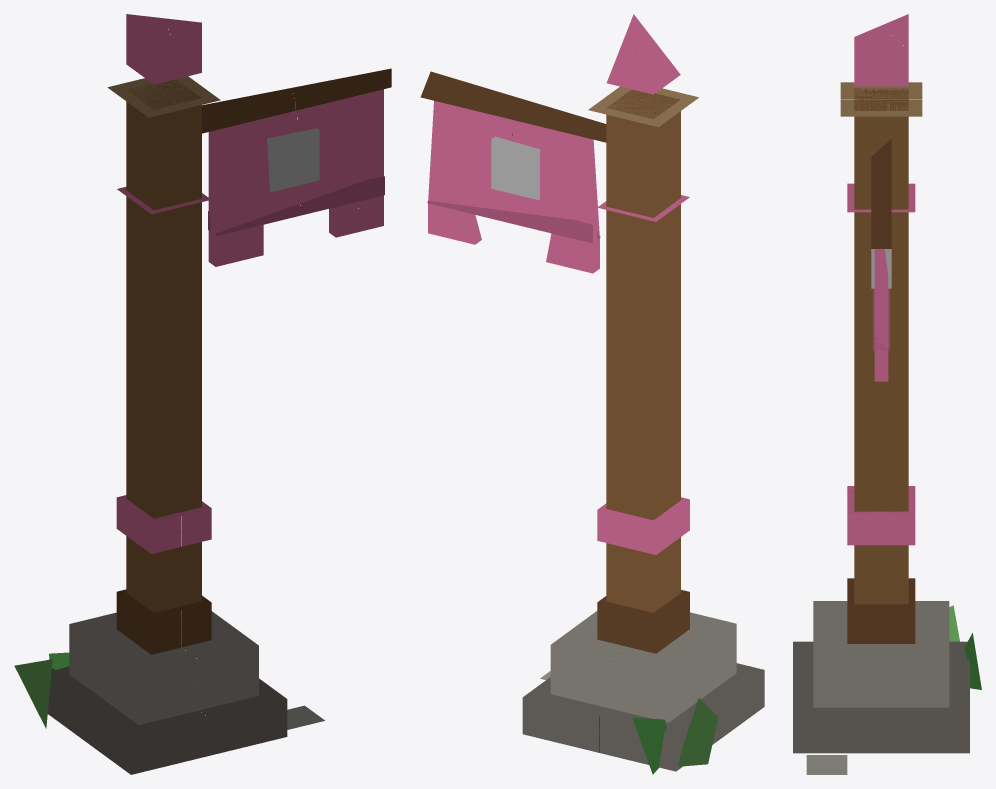
The model's file is territory-marker-opossum_lod1.glb.
3 renders of one model, left to right at view 1: azimuth 30°, elevation 25°; view 2: azimuth 150°, elevation 25°; view 3: azimuth 270°, elevation 25°, orthographic. The views are drawn at different scales.
Visible parts, largest first — view 1: marker-post, banner; view 2: marker-post, banner; view 3: marker-post, banner.
Boxes of the visible parts, x1,y1,x2,y2 form: marker-post: (14,14,324,774); banner: (202,68,391,266); marker-post: (522,14,764,774); banner: (420,71,606,273); marker-post: (793,14,981,774); banner: (871,139,891,381).
Size of the model in its own units: 0.5581 by 1.12 by 0.2778.
